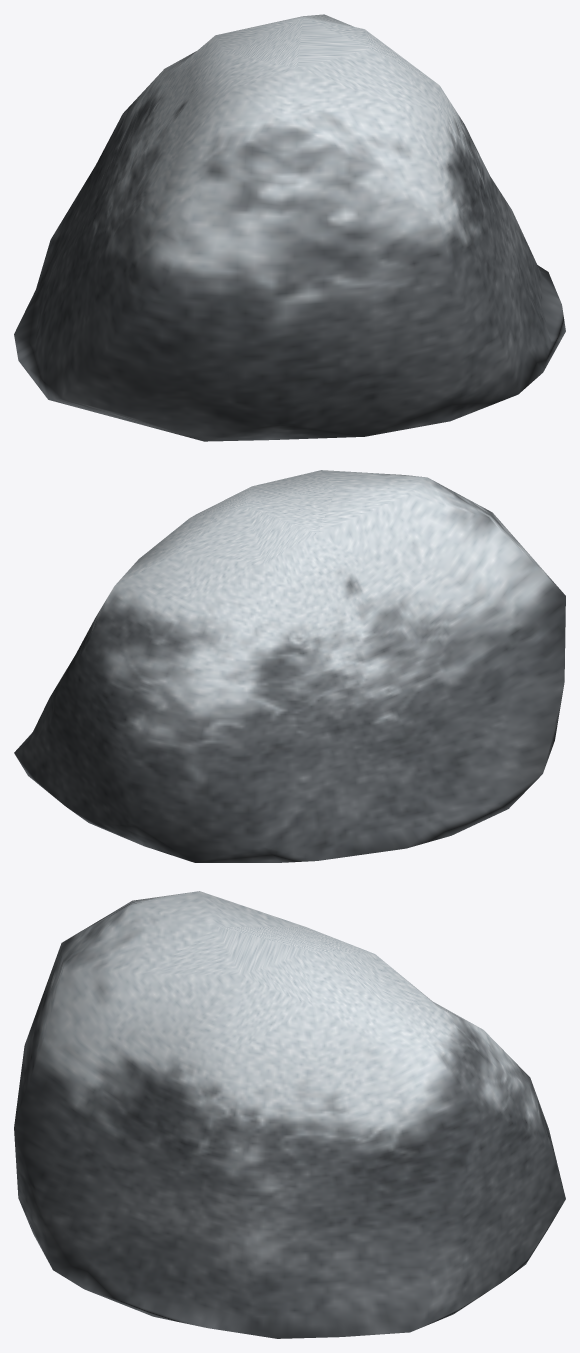
Rendered from rock_snowcap_boulder_a.glb.
The picture shows the model from 3 angles, top to bottom: view 1: azimuth 30°, elevation 25°; view 2: azimuth 150°, elevation 25°; view 3: azimuth 270°, elevation 25°; orthographic projection. The views are drawn at different scales.
Parts seen in each view (by area): view 1: rock_snowcap_boulder_a; view 2: rock_snowcap_boulder_a; view 3: rock_snowcap_boulder_a.
Part boxes in pixels (x1,y1,x2,y2): rock_snowcap_boulder_a: (14,14,565,441); rock_snowcap_boulder_a: (14,470,565,862); rock_snowcap_boulder_a: (14,891,565,1338).
Size of the model in its own units: 2.04 by 1.12 by 1.98.
1 material, 1 textured.
